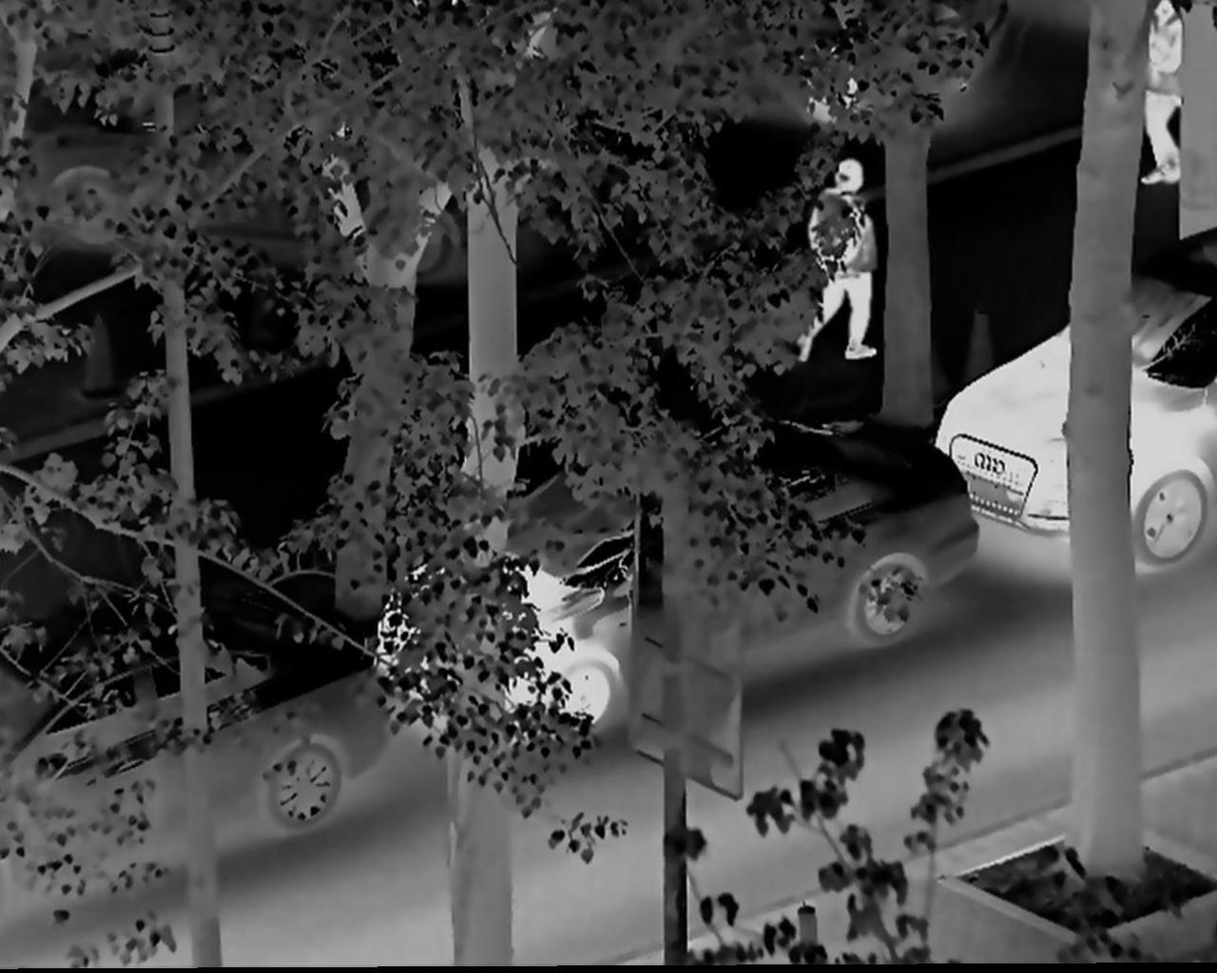person: (805, 148, 896, 377), (1141, 4, 1195, 202)
